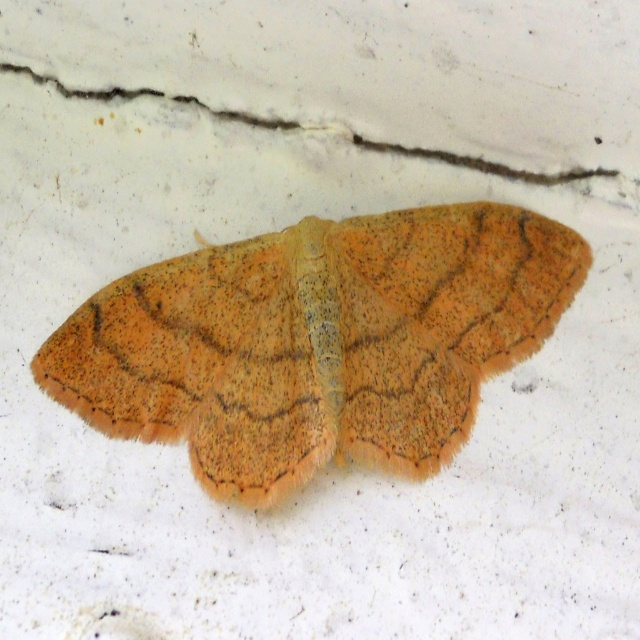Moths and butterflies: (36, 195, 594, 507)
